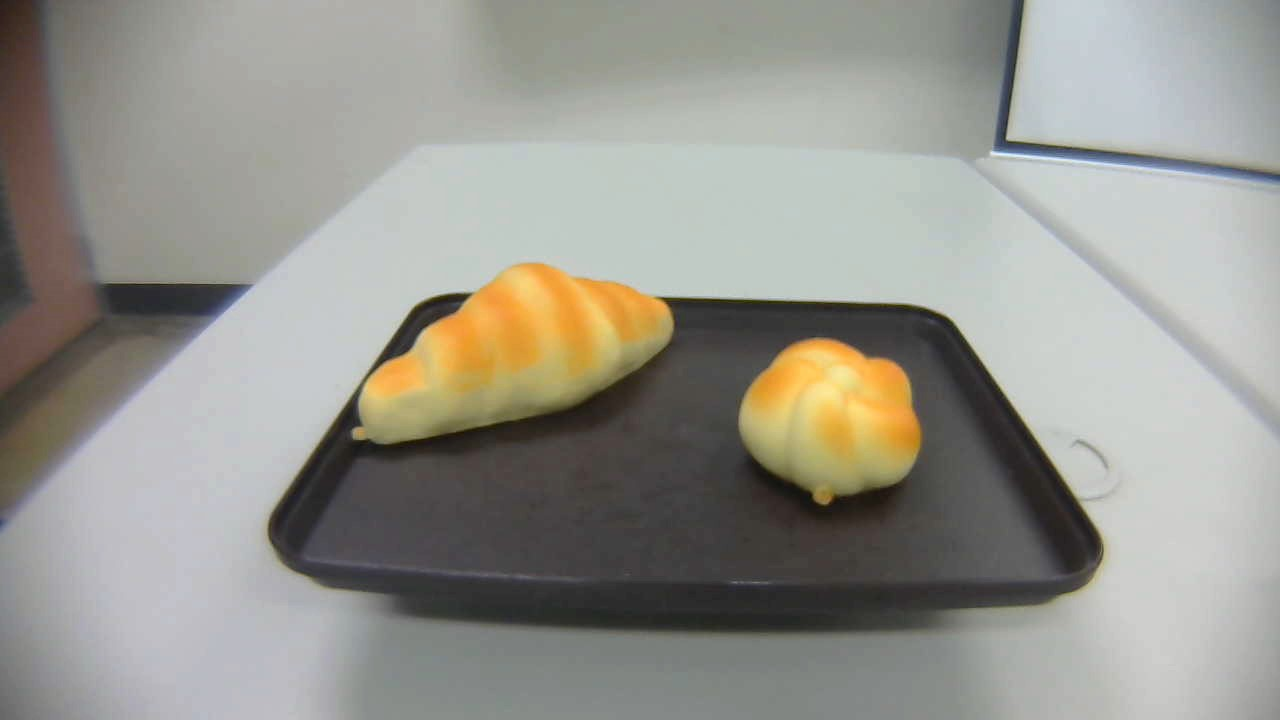croissant: (352, 261, 675, 448)
twist bread: (737, 335, 923, 507)
